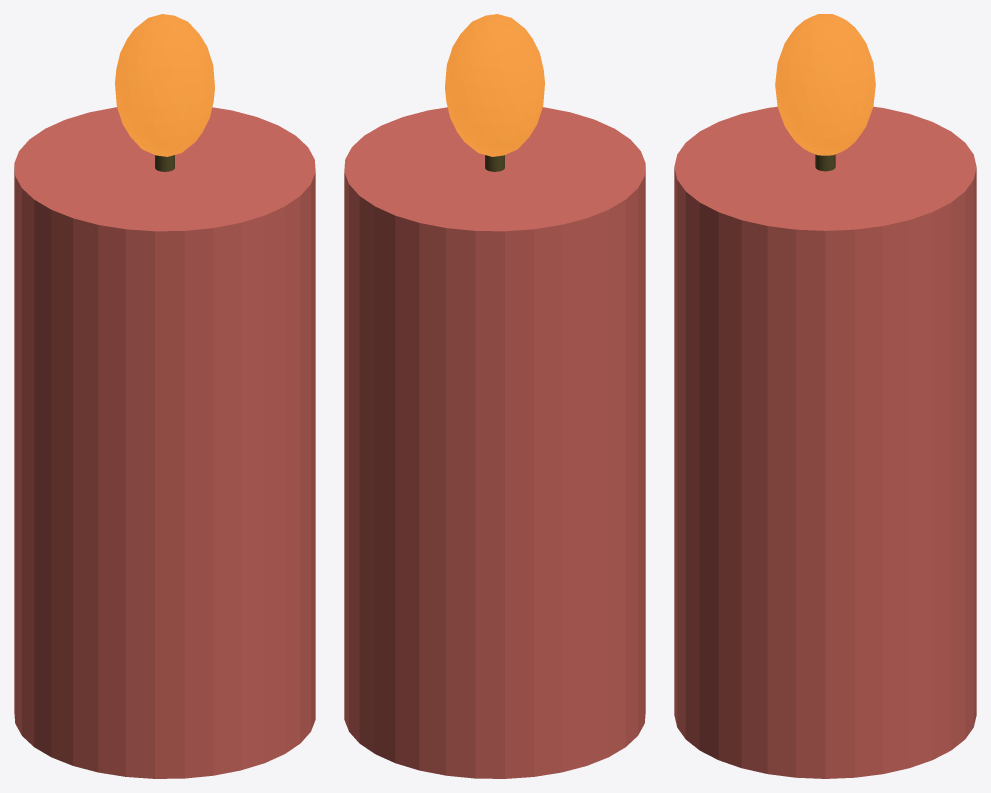
3 views of the same model, side by side, from view 1: azimuth 30°, elevation 25°; view 2: azimuth 150°, elevation 25°; view 3: azimuth 270°, elevation 25° (orthographic).
Visible parts, largest first — view 1: Candle_Body, Flame; view 2: Candle_Body, Flame; view 3: Candle_Body, Flame.
Part boxes in pixels (x1,y1,x2,y2): Candle_Body: (14, 107, 315, 778); Flame: (115, 14, 214, 156); Candle_Body: (344, 107, 645, 778); Flame: (445, 14, 544, 156); Candle_Body: (674, 106, 976, 778); Flame: (775, 14, 875, 155).
Size of what is drawn, in the model's own units: 0.3 by 0.765 by 0.3.
